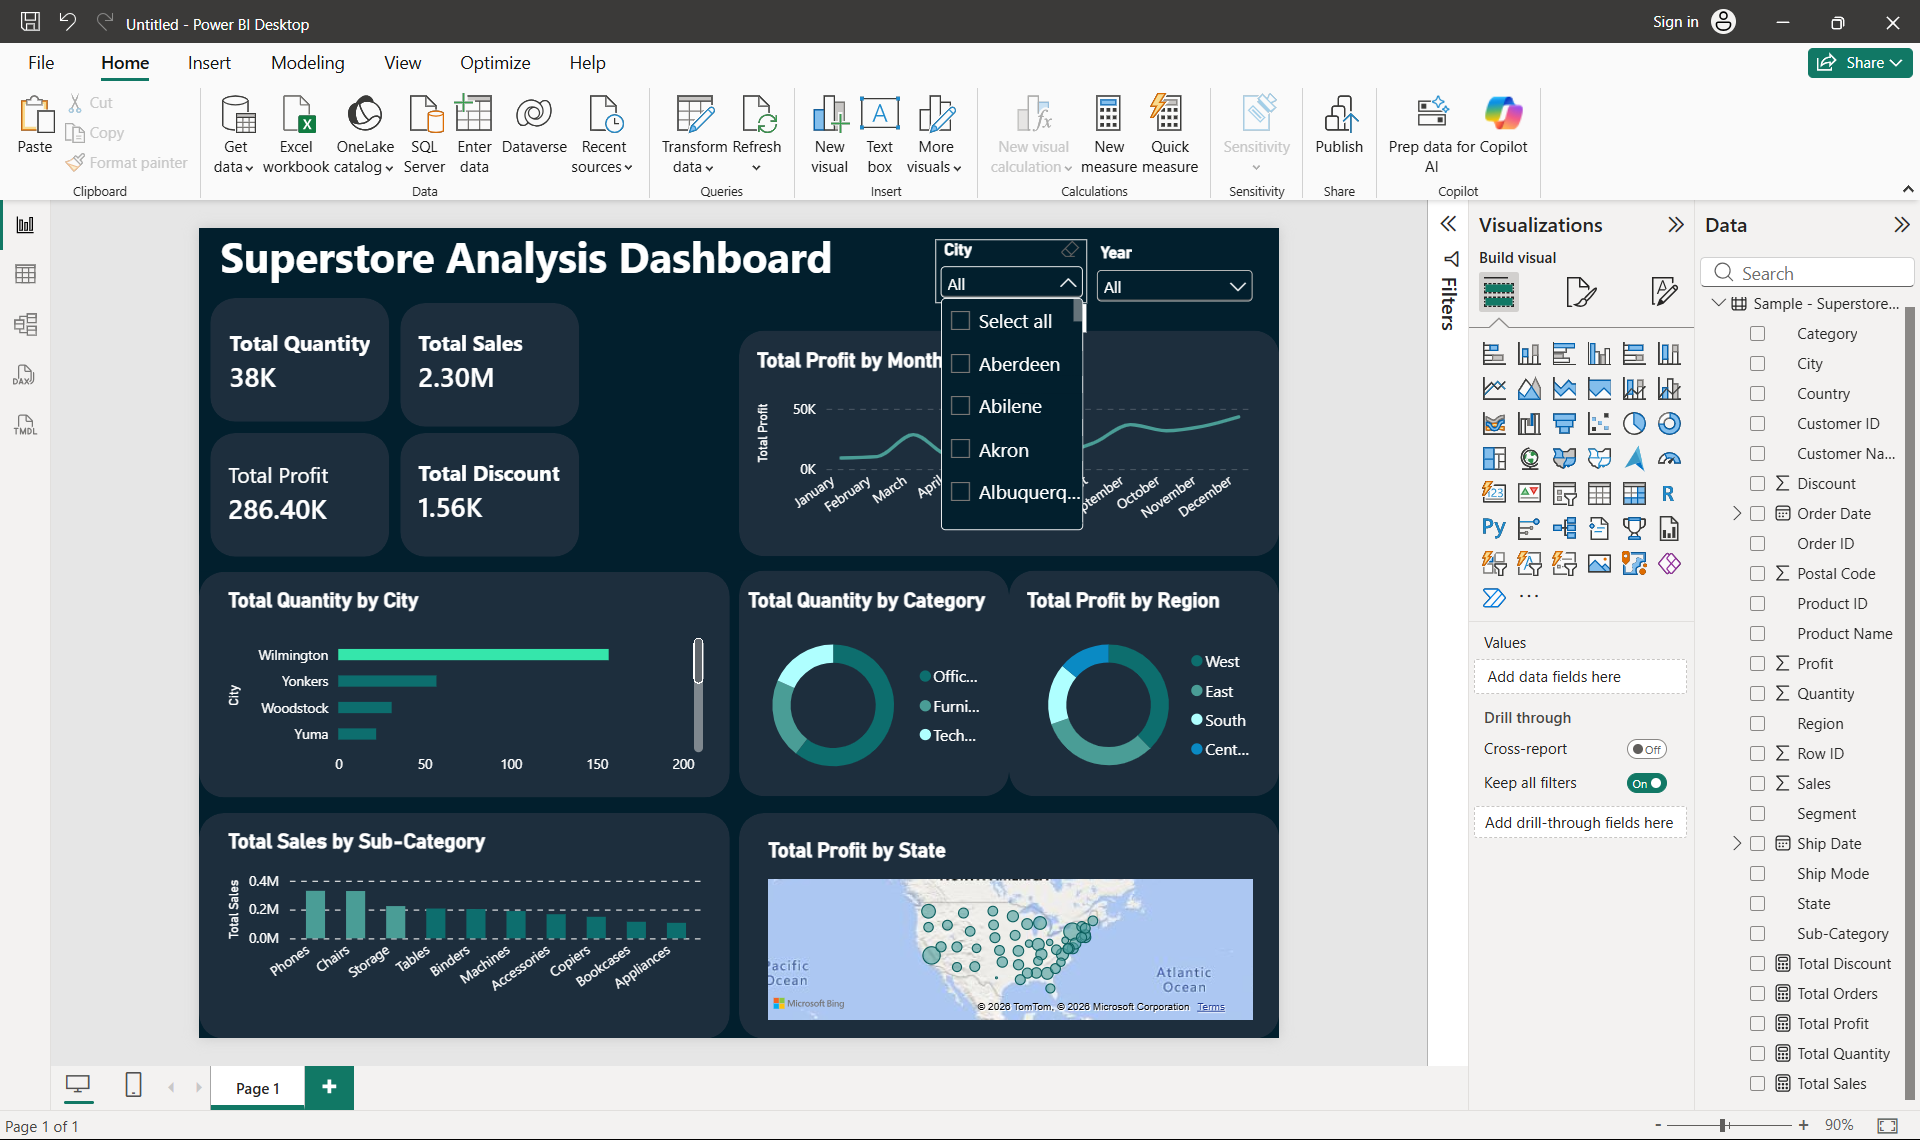

What the dashboard file says about the page in this screenshot:
{"tool":"powerbi","page":{"name":"Page 1","canvas":[960,720],"ordinal":0},"visuals":[{"type":"shape","box":[480.1,519.6,480.1,200.6],"z":0},{"type":"shape","box":[0,519.6,471.8,200.6],"z":1000},{"type":"shape","box":[720.2,304.5,240.1,200.6],"z":2000},{"type":"shape","box":[480.1,91.5,480.1,200.6],"z":3000},{"type":"shape","box":[480.1,304.5,240.1,200.6],"z":4000},{"type":"shape","box":[0,305.5,471.8,200.6],"z":5000},{"type":"map","fields":{"Category":["Sample - Superstore_C2.State"],"Size":["Sample - Superstore_C2.Total Profit"]},"box":[490,528,463,192],"z":6000},{"type":"donutChart","fields":{"Category":["Sample - Superstore_C2.Category"],"Y":["Sample - Superstore_C2.Total Quantity"]},"box":[472,305,248,202],"z":7000},{"type":"donutChart","fields":{"Category":["Sample - Superstore_C2.Region"],"Y":["Sample - Superstore_C2.Total Profit"]},"box":[720,306,240,201],"z":8000},{"type":"lineChart","fields":{"Category":["Sample - Superstore_C2.Order Date.Variation.Date Hierarchy.Year","Sample - Superstore_C2.Order Date.Variation.Date Hierarchy.Quarter","Sample - Superstore_C2.Order Date.Variation.Date Hierarchy.Month","Sample - Superstore_C2.Order Date.Variation.Date Hierarchy.Day"],"Y":["Sample - Superstore_C2.Total Profit"]},"box":[480,92,473,201],"z":9000},{"type":"shape","box":[10,182,159,110],"z":10000},{"type":"shape","box":[179,182,159,110],"z":11000},{"type":"shape","box":[179,67,159,110],"z":12000},{"type":"shape","box":[10,62,159,110],"z":13000},{"type":"clusteredColumnChart","fields":{"Category":["Sample - Superstore_C2.Sub-Category"],"Y":["Sample - Superstore_C2.Total Sales"]},"box":[10,520,454,192],"z":14000},{"type":"clusteredBarChart","fields":{"Category":["Sample - Superstore_C2.City"],"Y":["Sample - Superstore_C2.Total Quantity"]},"box":[10,306,454,200],"z":15000},{"type":"cardVisual","fields":{"Data":["Sample - Superstore_C2.Total Sales"]},"box":[179,67,159,105],"z":16000},{"type":"cardVisual","fields":{"Data":["Sample - Superstore_C2.Total Quantity"]},"box":[11,67,159,105],"z":17000},{"type":"cardVisual","fields":{"Data":["Sample - Superstore_C2.Total Discount"]},"box":[179,182,159,105],"z":18000},{"type":"cardVisual","fields":{"Data":["Sample - Superstore_C2.Total Profit"]},"box":[10,184,159,105],"z":19000},{"type":"textbox","box":[19,0,602,50],"z":20000},{"type":"slicer","fields":{"Values":["Sample - Superstore_C2.City"]},"box":[654,10,136,57],"z":21000},{"type":"slicer","fields":{"Values":["Sample - Superstore_C2.Order Date.Variation.Date Hierarchy.Year","Sample - Superstore_C2.Order Date.Variation.Date Hierarchy.Quarter","Sample - Superstore_C2.Order Date.Variation.Date Hierarchy.Month","Sample - Superstore_C2.Order Date.Variation.Date Hierarchy.Day"]},"box":[793,13,148,54],"z":21001}]}

Visuals, with their boxes on the page's 960x720 design canvas (x1, y1, x2, y2). These are canvas units, not pixel positions in the 1920x1140 screenshot, which may show the page scaled, cropped or inside an application window:
shape: 480,520,960,720
shape: 0,520,472,720
shape: 720,304,960,505
shape: 480,92,960,292
shape: 480,304,720,505
shape: 0,306,472,506
map - Sample - Superstore_C2.State x Sample - Superstore_C2.Total Profit: 490,528,953,720
donutChart - Sample - Superstore_C2.Category x Sample - Superstore_C2.Total Quantity: 472,305,720,507
donutChart - Sample - Superstore_C2.Region x Sample - Superstore_C2.Total Profit: 720,306,960,507
lineChart - Sample - Superstore_C2.Order Date.Variation.Date Hierarchy.Year x Sample - Superstore_C2.Order Date.Variation.Date Hierarchy.Quarter: 480,92,953,293
shape: 10,182,169,292
shape: 179,182,338,292
shape: 179,67,338,177
shape: 10,62,169,172
clusteredColumnChart - Sample - Superstore_C2.Sub-Category x Sample - Superstore_C2.Total Sales: 10,520,464,712
clusteredBarChart - Sample - Superstore_C2.City x Sample - Superstore_C2.Total Quantity: 10,306,464,506
cardVisual - Sample - Superstore_C2.Total Sales: 179,67,338,172
cardVisual - Sample - Superstore_C2.Total Quantity: 11,67,170,172
cardVisual - Sample - Superstore_C2.Total Discount: 179,182,338,287
cardVisual - Sample - Superstore_C2.Total Profit: 10,184,169,289
textbox: 19,0,621,50
slicer - Sample - Superstore_C2.City: 654,10,790,67
slicer - Sample - Superstore_C2.Order Date.Variation.Date Hierarchy.Year x Sample - Superstore_C2.Order Date.Variation.Date Hierarchy.Quarter: 793,13,941,67
